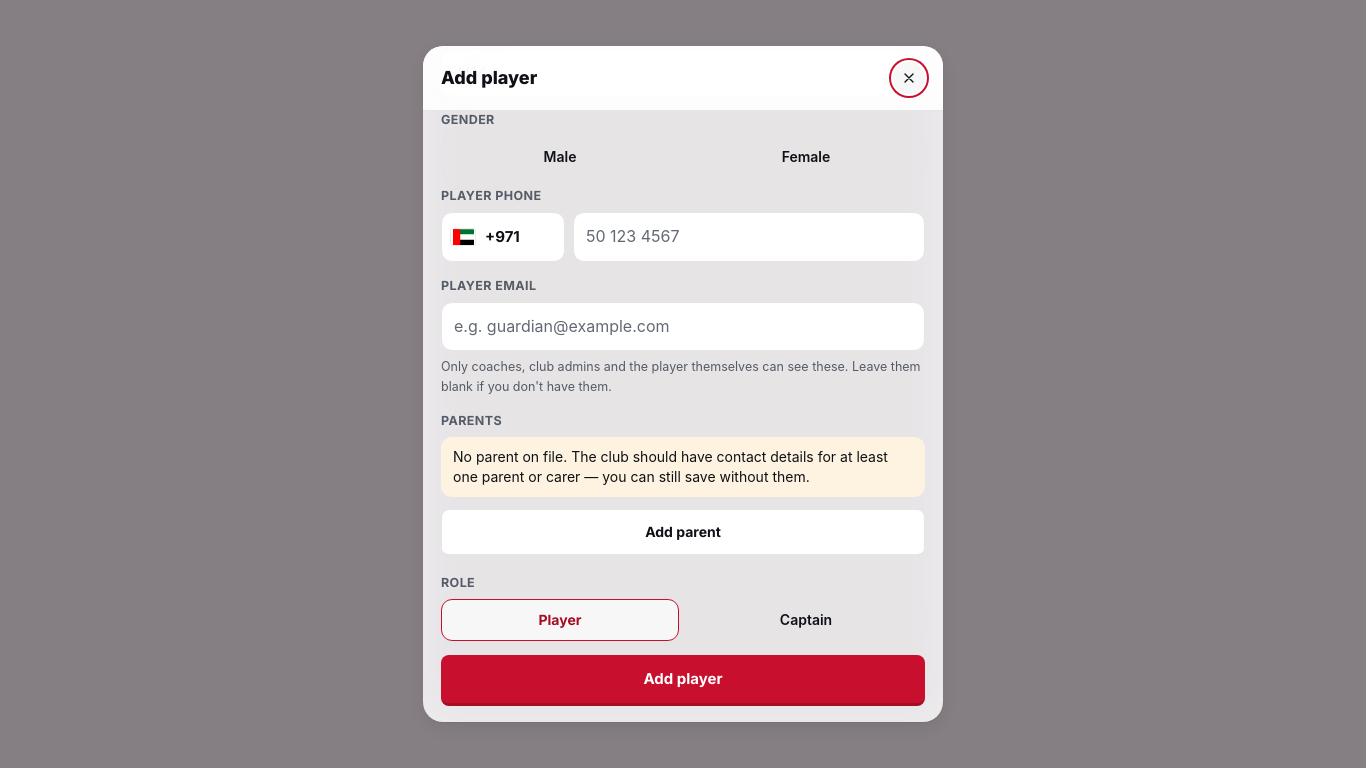
Test: PlayerForm — validation › blocks submit and explains why when the name is empty
The width and height of the screenshot is (1366, 768).
(page scrolled)
Click the button "Add player" at (683, 681), box [441,655,925,706]
(page scrolled)
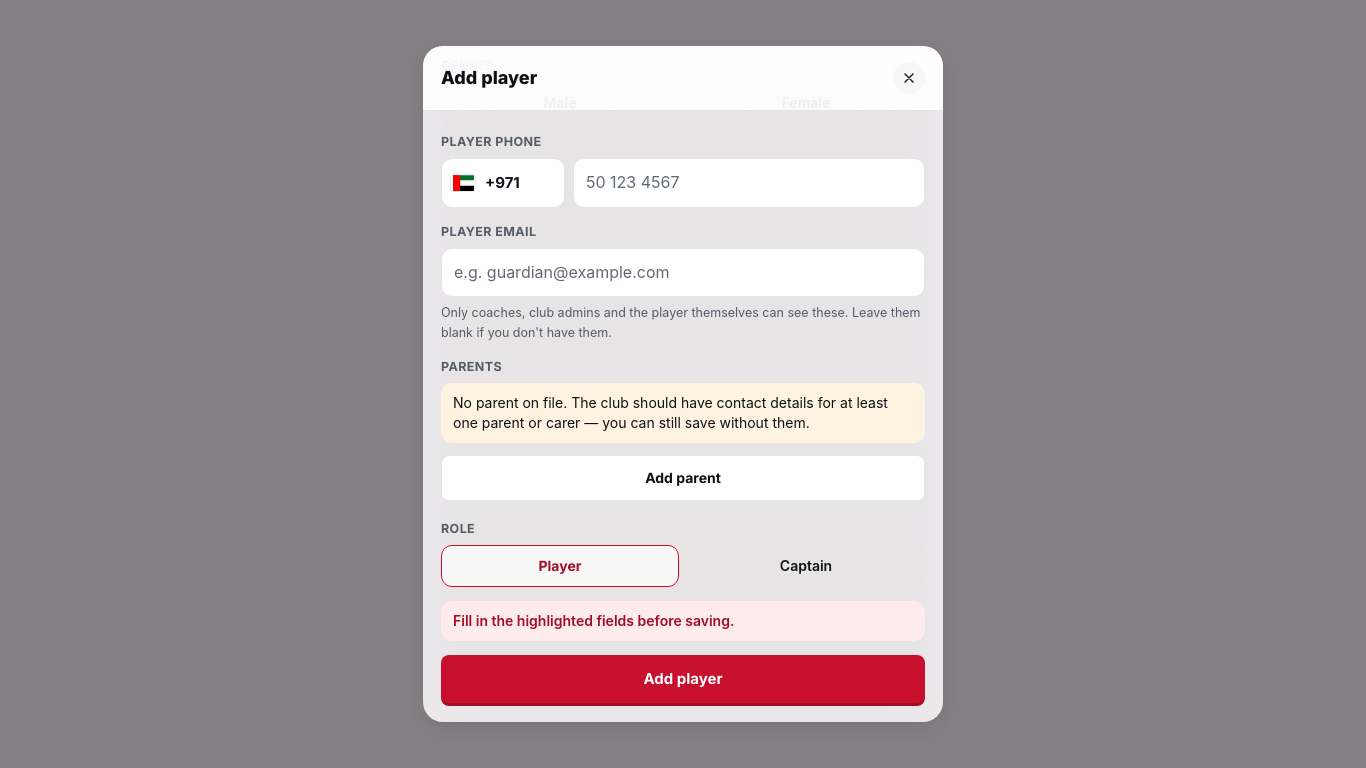
Expected: the message "Fill in the highlighted fields before saving." is shown, [441,601,925,641]
